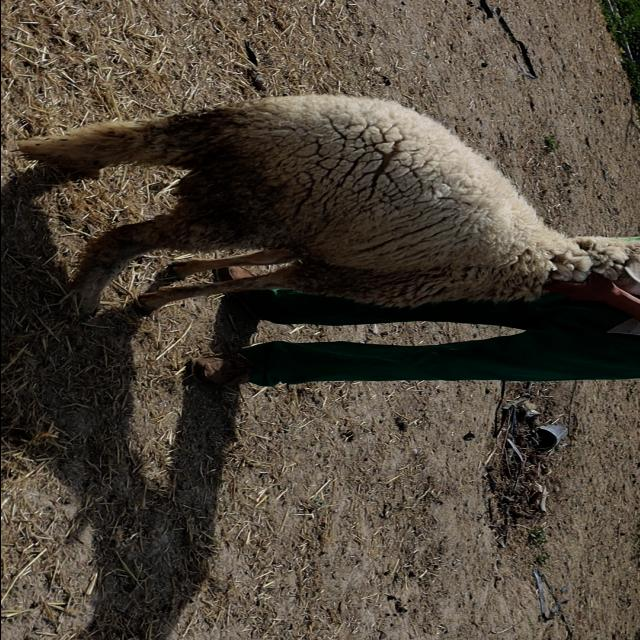Score_4: (19, 95, 640, 315)
